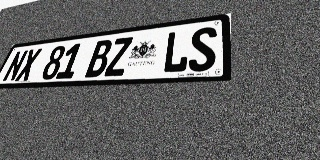1: (55, 43, 84, 79)
8: (40, 45, 68, 80)
B: (85, 39, 114, 78)
L: (161, 29, 191, 73)
N: (1, 50, 29, 82)
S: (188, 26, 217, 72)
X: (15, 48, 42, 81)
Z: (104, 37, 133, 76)
